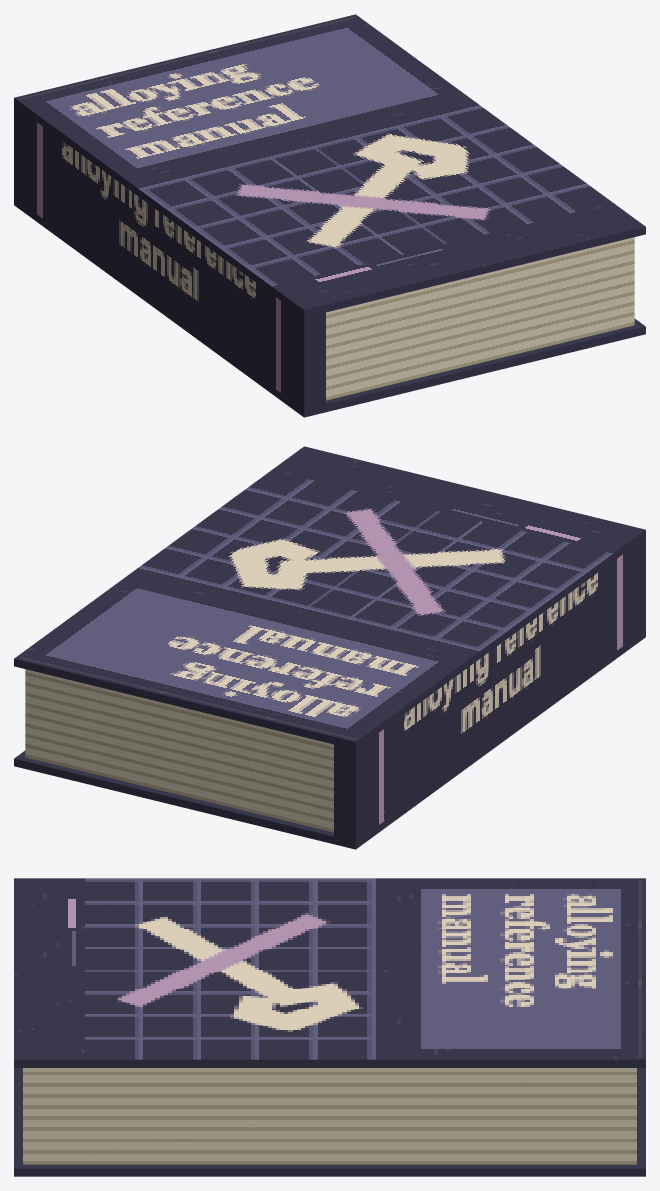
Rendered from alloy_book.glb.
3 renders of one model, top to bottom at view 1: azimuth 30°, elevation 25°; view 2: azimuth 150°, elevation 25°; view 3: azimuth 270°, elevation 25°, orthographic. The views are drawn at different scales.
Parts seen in each view (by area): view 1: block_front cover, block_spine, block_page block, block_back cover; view 2: block_front cover, block_spine, block_page block, block_back cover; view 3: block_front cover, block_page block, block_back cover.
Boxes of the visible parts, x1=… form: block_front cover: x1=14, y1=14, x2=645, y2=317; block_spine: x1=14, y1=105, x2=325, y2=409; block_page block: x1=326, y1=237, x2=634, y2=400; block_back cover: x1=14, y1=198, x2=645, y2=417; block_front cover: x1=14, y1=446, x2=645, y2=749; block_spine: x1=334, y1=537, x2=645, y2=841; block_page block: x1=25, y1=669, x2=333, y2=832; block_back cover: x1=14, y1=630, x2=645, y2=849; block_front cover: x1=14, y1=878, x2=645, y2=1067; block_page block: x1=23, y1=1068, x2=636, y2=1164; block_back cover: x1=14, y1=1068, x2=645, y2=1176.
Size of the model in its own units: 0.1414 by 0.0425 by 0.208.
Materials: 1 (1 with a texture image).
